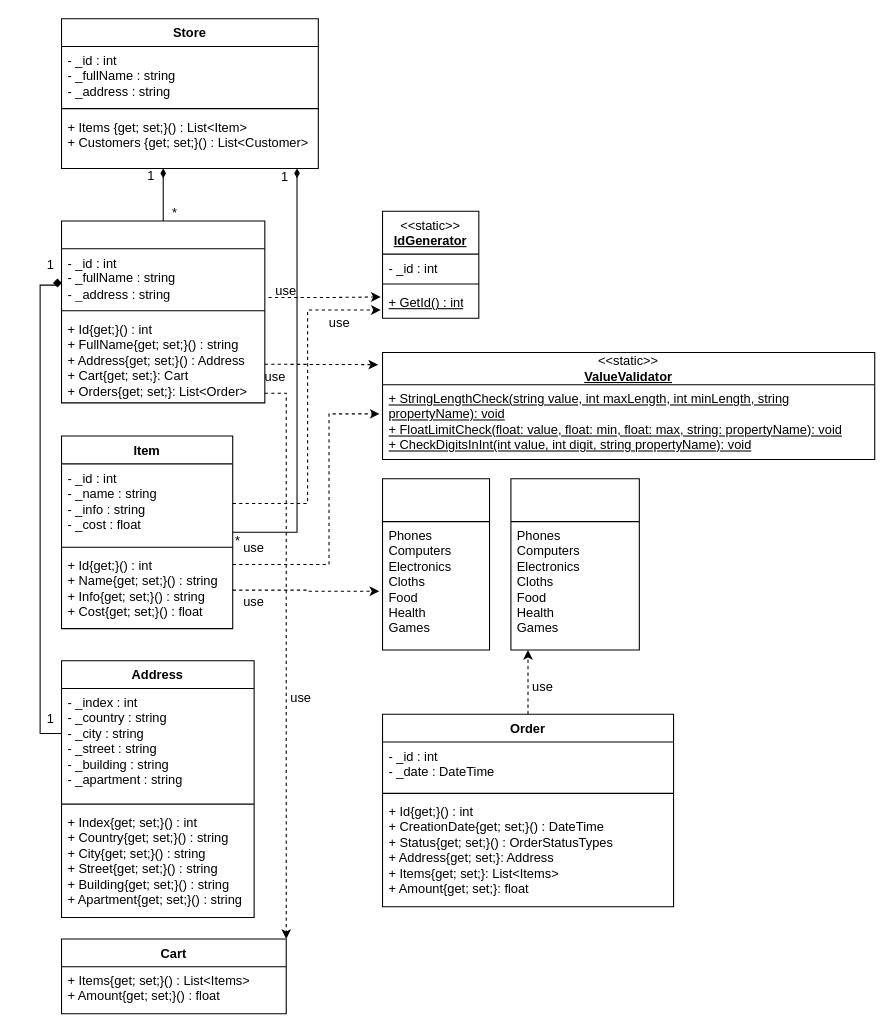
Some shapes in this 893 by 1036 pixel diagram are drawn without their labels. The box of each missing label's shape, as (x1, y1, x2, y2) in pixels:
<<enumeration>> CategoryType: (381, 478, 490, 650)
<<enumeration>> OrderStatusType: (510, 478, 639, 650)
Customer: (60, 220, 265, 403)
